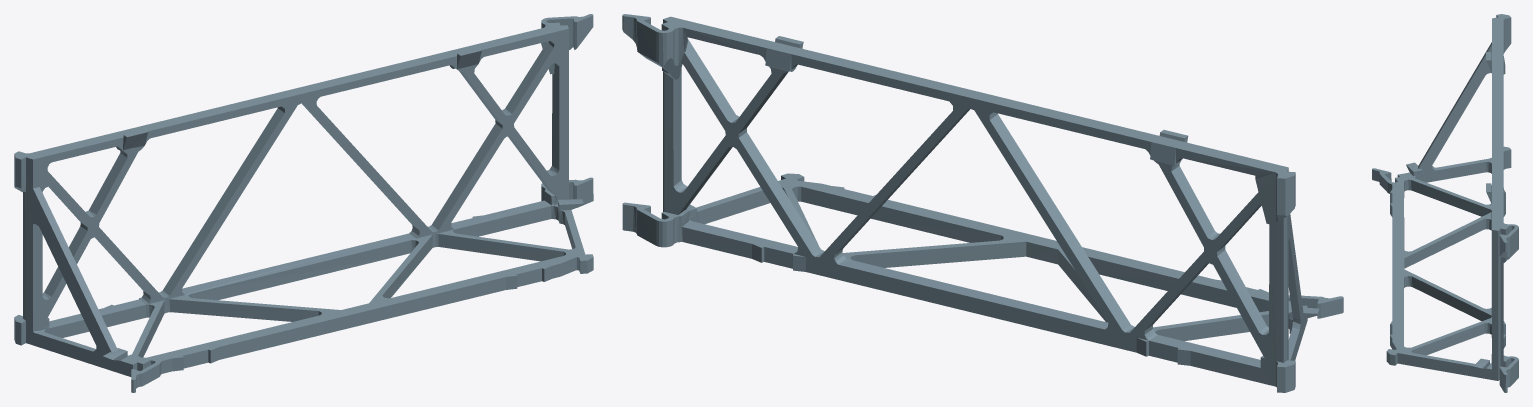
The model's file is L_truss_upright_simplified.glb.
The picture shows the model from 3 angles, left to right: view 1: azimuth 30°, elevation 25°; view 2: azimuth 150°, elevation 25°; view 3: azimuth 270°, elevation 25°; orthographic projection. The views are drawn at different scales.
Visible parts, largest first — view 1: L_truss_upright; view 2: L_truss_upright; view 3: L_truss_upright.
Boxes of the visible parts, x1,y1,x2,y2 form: L_truss_upright: (14,14,593,392); L_truss_upright: (622,14,1343,392); L_truss_upright: (1372,14,1518,392).
Size of the model in its own units: 163 by 50.75 by 44.28.
